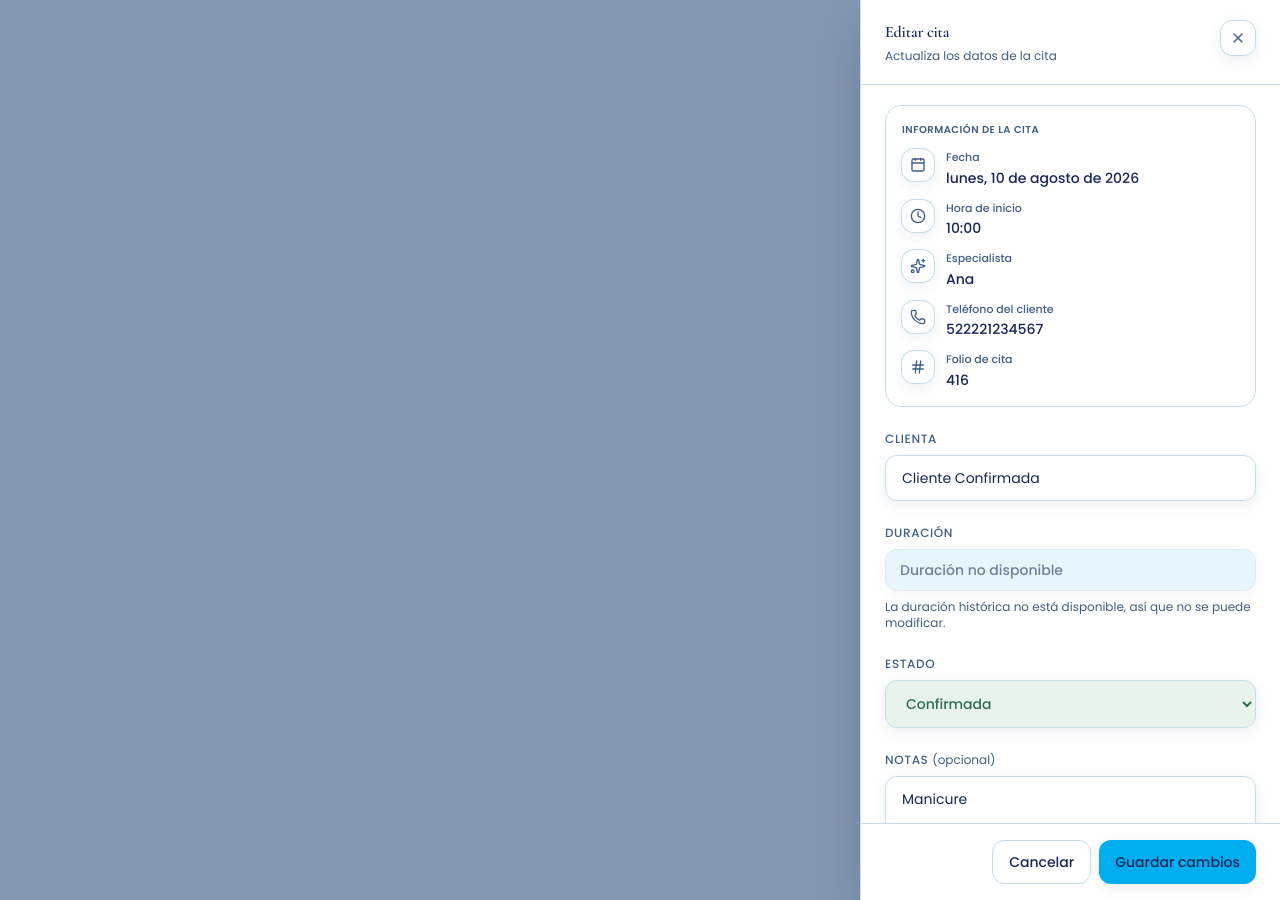
AppointmentEditDrawer historical duration › does not announce success when the backend rejects the edit
Click the button "Guardar cambios": [1178, 862] box [1099,840,1256,884]
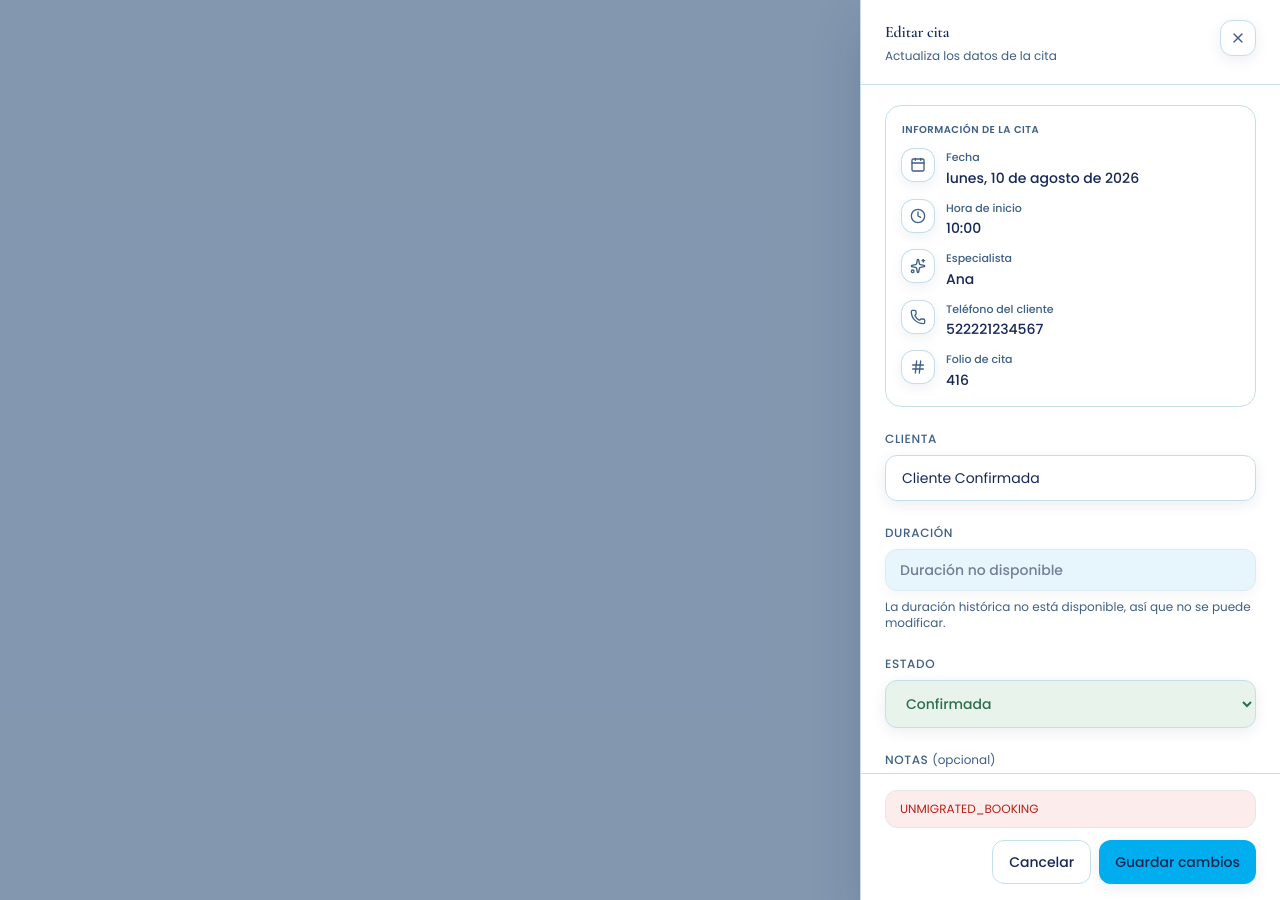
expect the message reads "UNMIGRATED_BOOKING": met, box [900,800,1039,817]
